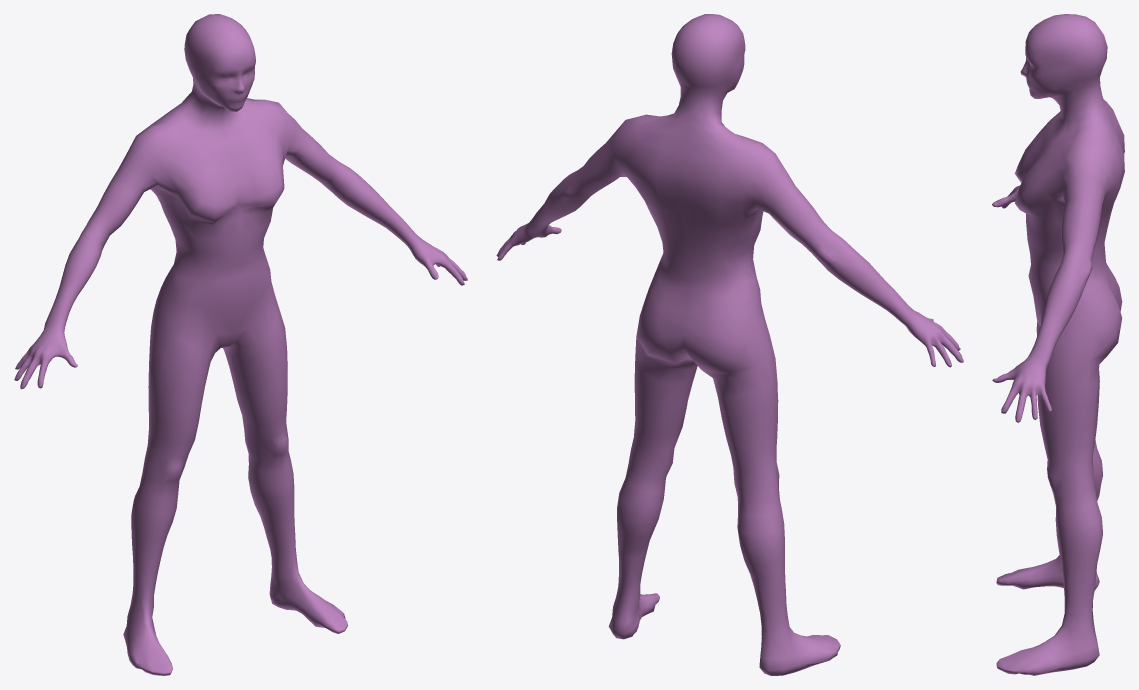
Rendered from Slender_Woman_Lores.glb.
3 renders of one model, left to right at view 1: azimuth 30°, elevation 25°; view 2: azimuth 150°, elevation 25°; view 3: azimuth 270°, elevation 25°, orthographic. The views are drawn at different scales.
Parts seen in each view (by area): view 1: Body_Lores_GEO; view 2: Body_Lores_GEO; view 3: Body_Lores_GEO.
Part boxes in pixels (x1=…): Body_Lores_GEO: x1=14, y1=14, x2=467, y2=675; Body_Lores_GEO: x1=496, y1=14, x2=963, y2=675; Body_Lores_GEO: x1=992, y1=14, x2=1124, y2=675.
Bounding box in the file's own units: 1.27 × 1.66 × 0.3269.
